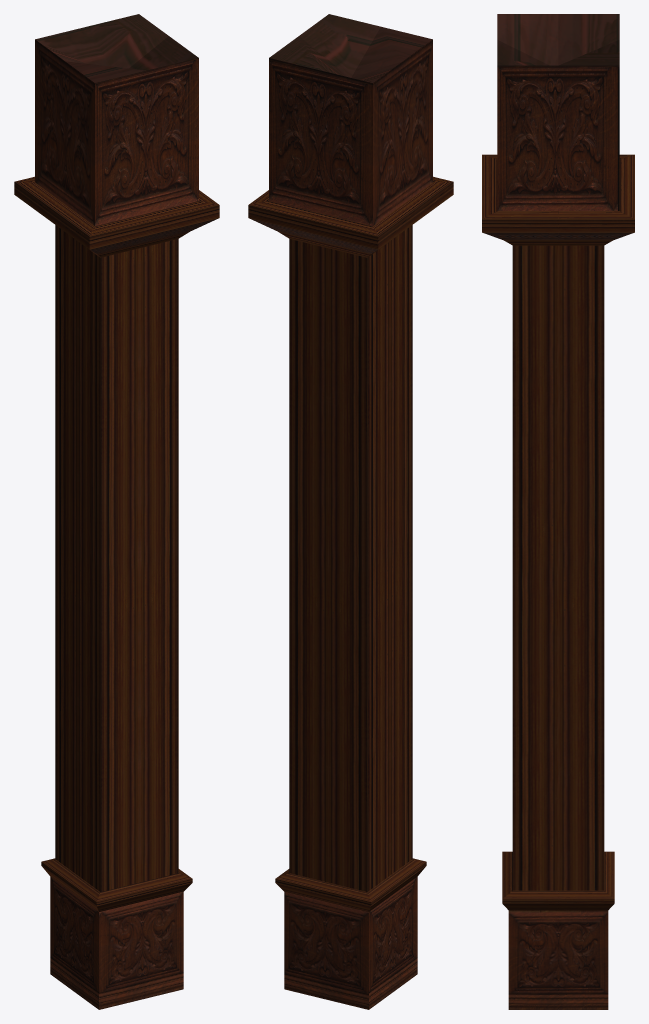
The model's file is Column_Wood.fbx.
3 views of the same model, side by side, from view 1: azimuth 30°, elevation 25°; view 2: azimuth 150°, elevation 25°; view 3: azimuth 270°, elevation 25° (orthographic).
Visible parts, largest first — view 1: Column Square; view 2: Column Square; view 3: Column Square.
Boxes of the visible parts, bbox=[...] form: Column Square: bbox=[14, 14, 219, 1009]; Column Square: bbox=[248, 14, 453, 1009]; Column Square: bbox=[482, 14, 634, 1009].
Size of the model in its own units: 41.73 by 286 by 41.73.
